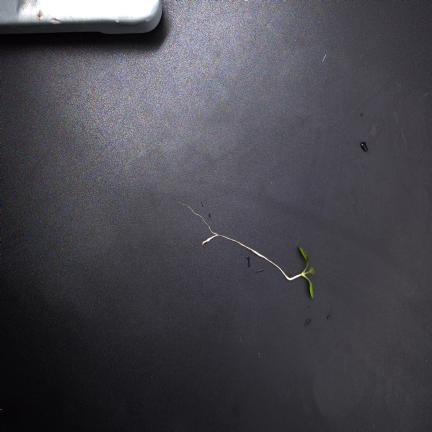leaf1: (299, 247, 308, 268)
leaf2: (309, 280, 313, 298)
leaf3: (309, 268, 314, 274)
root: (175, 200, 289, 280)
stem: (290, 269, 308, 281)
